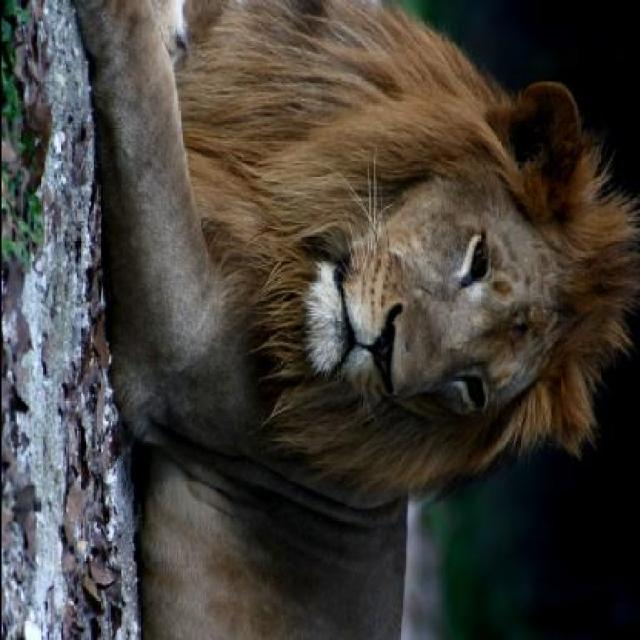Lion: (69, 9, 628, 637)
